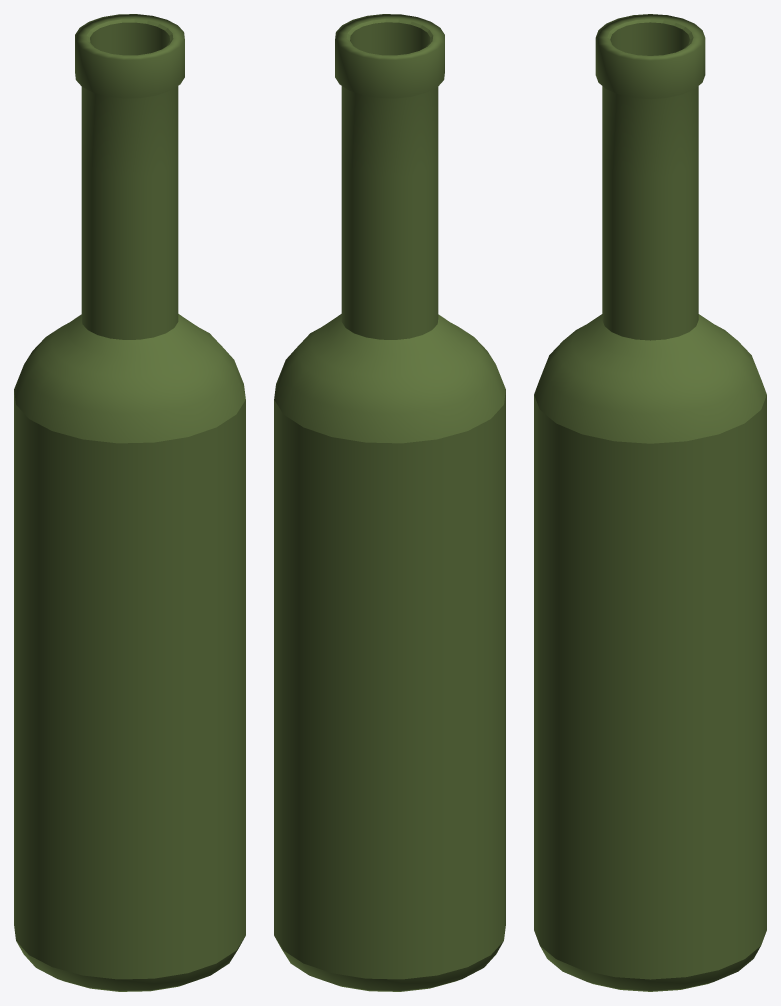
File: Animate.fbx
3 renders of one model, left to right at view 1: azimuth 30°, elevation 25°; view 2: azimuth 150°, elevation 25°; view 3: azimuth 270°, elevation 25°, orthographic.
Visible parts, largest first — view 1: Obj__Bottle; view 2: Obj__Bottle; view 3: Obj__Bottle.
Boxes of the visible parts, box(x1,y1,x2,y2) form: Obj__Bottle: box(14, 14, 245, 991); Obj__Bottle: box(274, 14, 505, 991); Obj__Bottle: box(534, 14, 766, 991).
Bounding box in the file's own units: 0.6122 × 2.65 × 0.6122.
